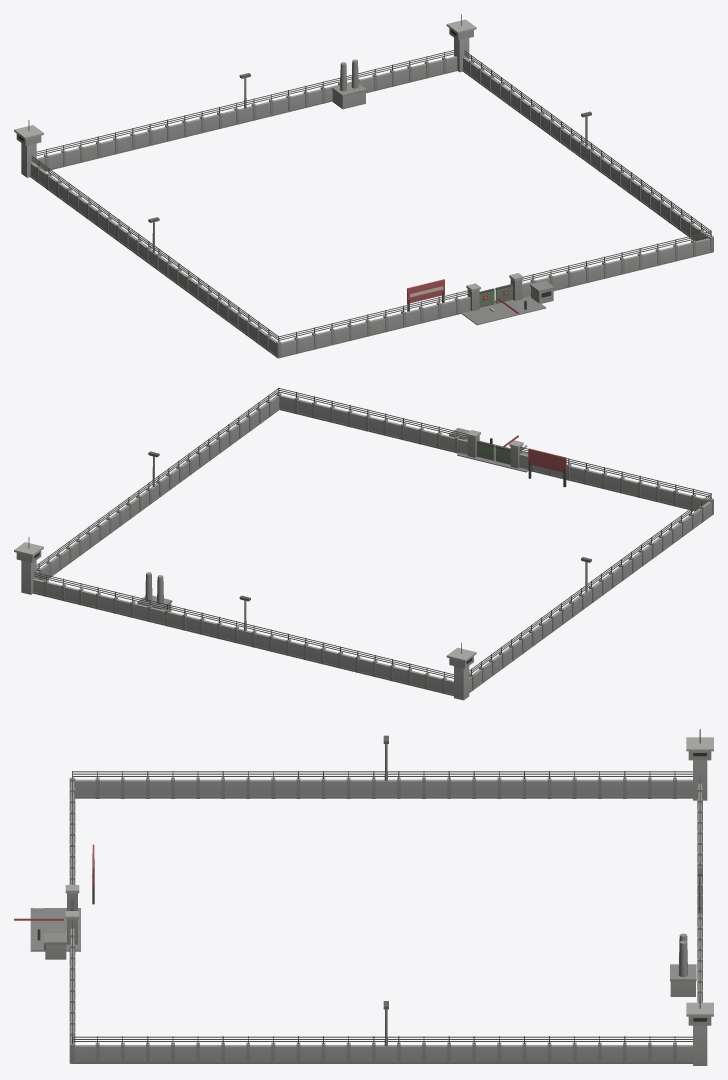
3 views of the same model, one above another, from view 1: azimuth 30°, elevation 25°; view 2: azimuth 150°, elevation 25°; view 3: azimuth 270°, elevation 25° (orthographic). The views are drawn at different scales.
Parts seen in each view (by area): view 1: mesh; view 2: mesh; view 3: mesh.
Part boxes in pixels (bbox=[...]): mesh: bbox=[14, 14, 713, 358]; mesh: bbox=[14, 387, 713, 700]; mesh: bbox=[14, 729, 713, 1065].
Bounding box in the file's own units: 156 × 18 × 167.
